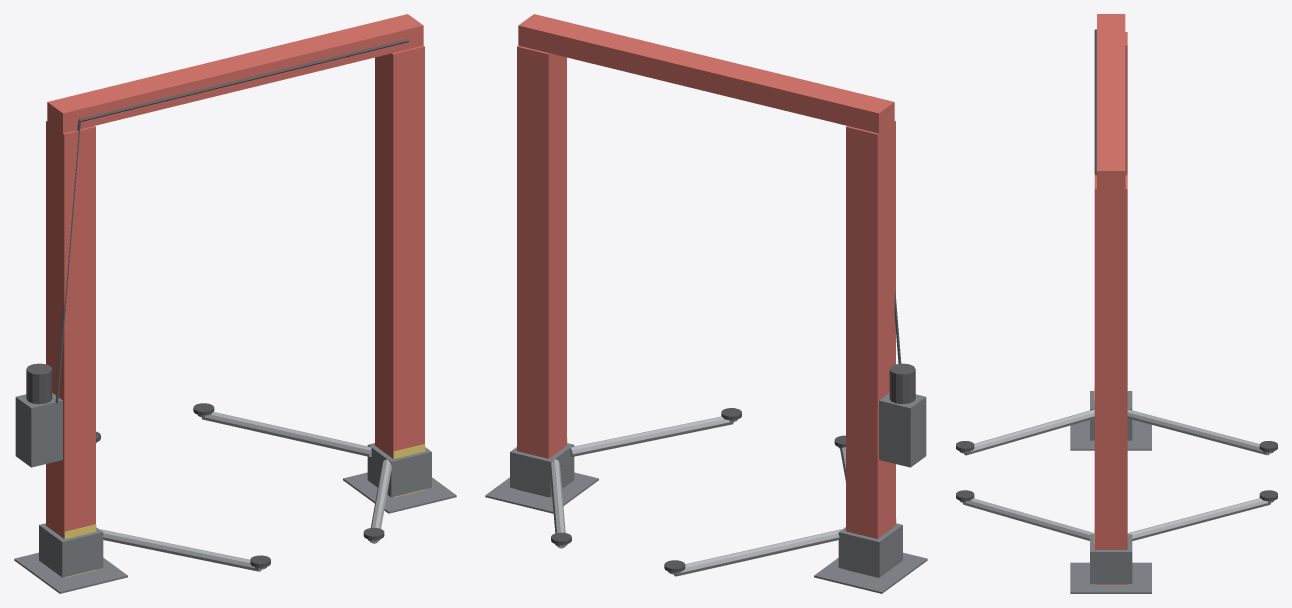
Rendered from lift_down.glb.
3 views of the same model, side by side, from view 1: azimuth 30°, elevation 25°; view 2: azimuth 150°, elevation 25°; view 3: azimuth 270°, elevation 25° (orthographic). The views are drawn at different scales.
Parts seen in each view (by area): view 1: lift_down_lift_r, lift_down_steel_d, lift_down_steel, lift_down_dark, lift_down_rubber, lift_down_paint_y; view 2: lift_down_lift_r, lift_down_steel_d, lift_down_steel, lift_down_dark, lift_down_rubber; view 3: lift_down_lift_r, lift_down_steel, lift_down_steel_d, lift_down_rubber, lift_down_dark.
Boxes of the visible parts, box(x1,y1,x2,y2) form: lift_down_lift_r: box(46, 14, 424, 538); lift_down_steel_d: box(14, 393, 456, 593); lift_down_steel: box(100, 412, 391, 571); lift_down_dark: box(26, 39, 408, 404); lift_down_rubber: box(96, 403, 384, 567); lift_down_paint_y: box(64, 444, 425, 577); lift_down_lift_r: box(517, 14, 895, 577); lift_down_steel_d: box(485, 393, 927, 593); lift_down_steel: box(549, 416, 845, 576); lift_down_dark: box(889, 291, 915, 404); lift_down_rubber: box(551, 408, 845, 572); lift_down_lift_r: box(1094, 14, 1127, 584); lift_down_steel: box(963, 409, 1270, 540); lift_down_steel_d: box(959, 391, 1274, 593); lift_down_rubber: box(956, 441, 1277, 501); lift_down_dark: box(1094, 29, 1096, 174).
Bounding box in the file's own units: 3.62 × 3.92 × 2.76.
